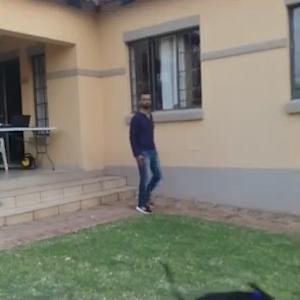follow: (137, 97, 162, 184)
